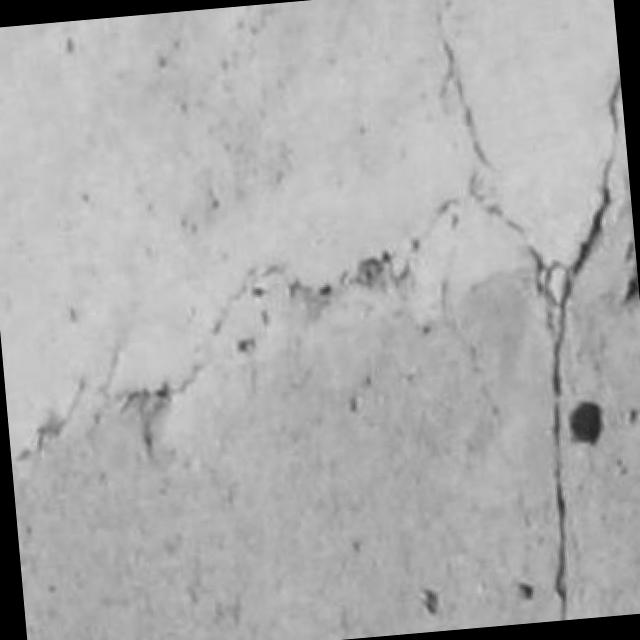crack: (542, 77, 621, 620), (432, 0, 491, 168), (16, 378, 85, 459), (623, 239, 639, 303)
